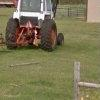Tractor: (3, 4, 77, 55)
